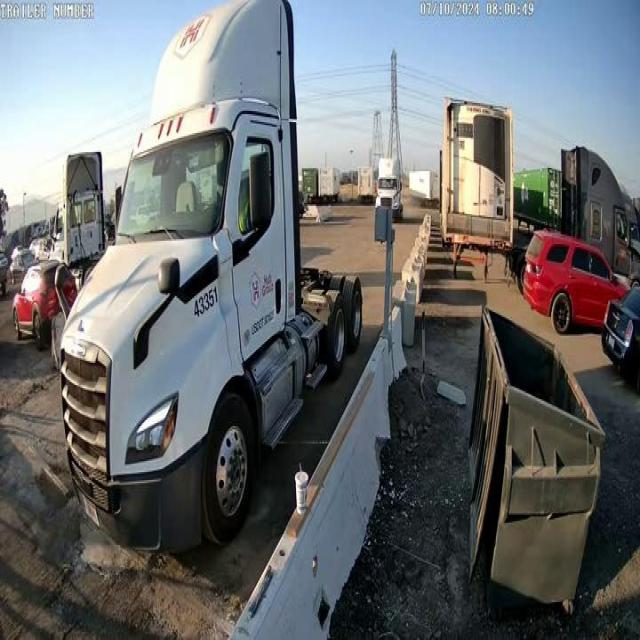TRUCK_OUT: (55, 0, 364, 558)
